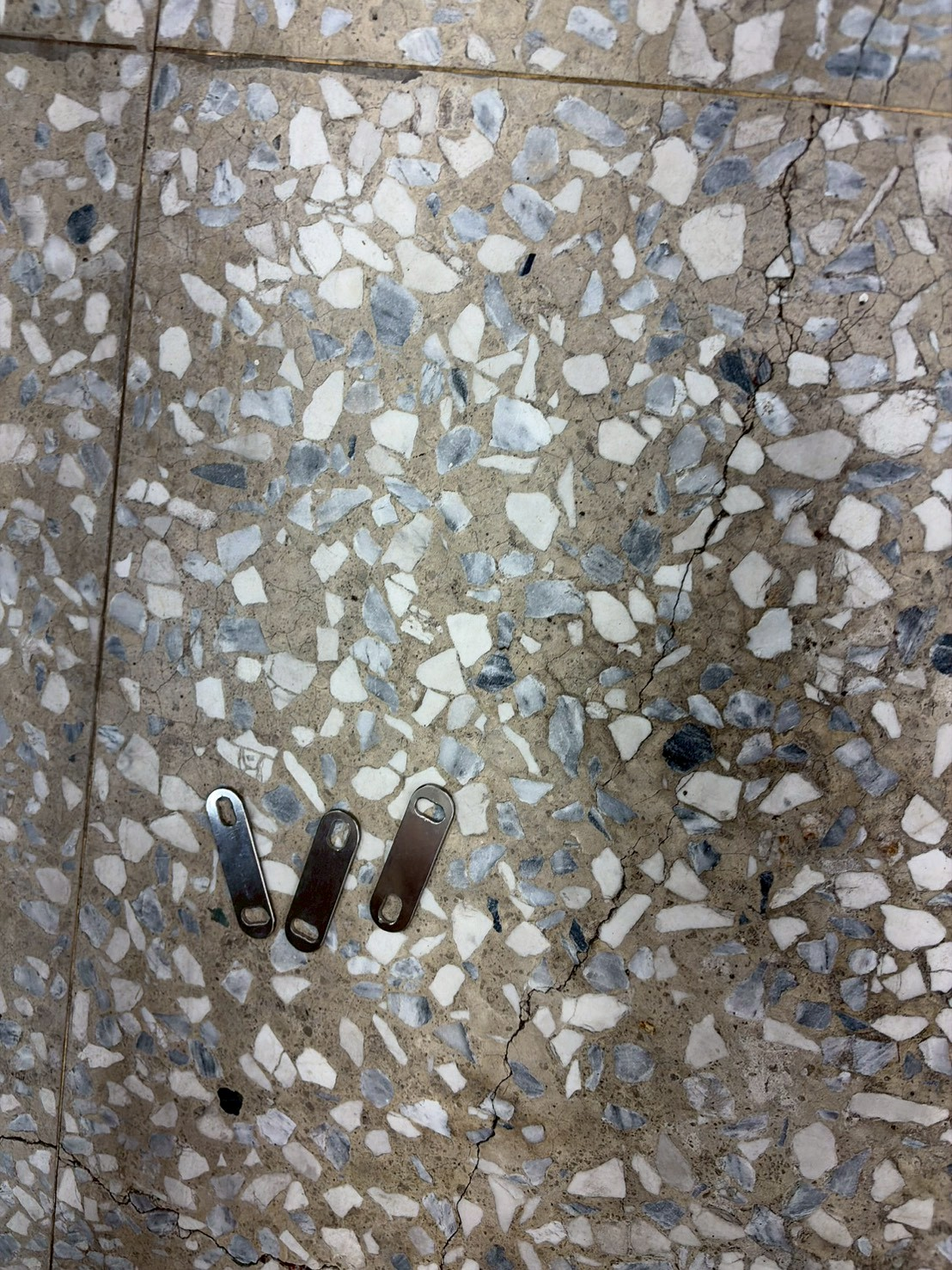Fe: (365, 778, 456, 937), (196, 779, 277, 936), (285, 804, 362, 955)
